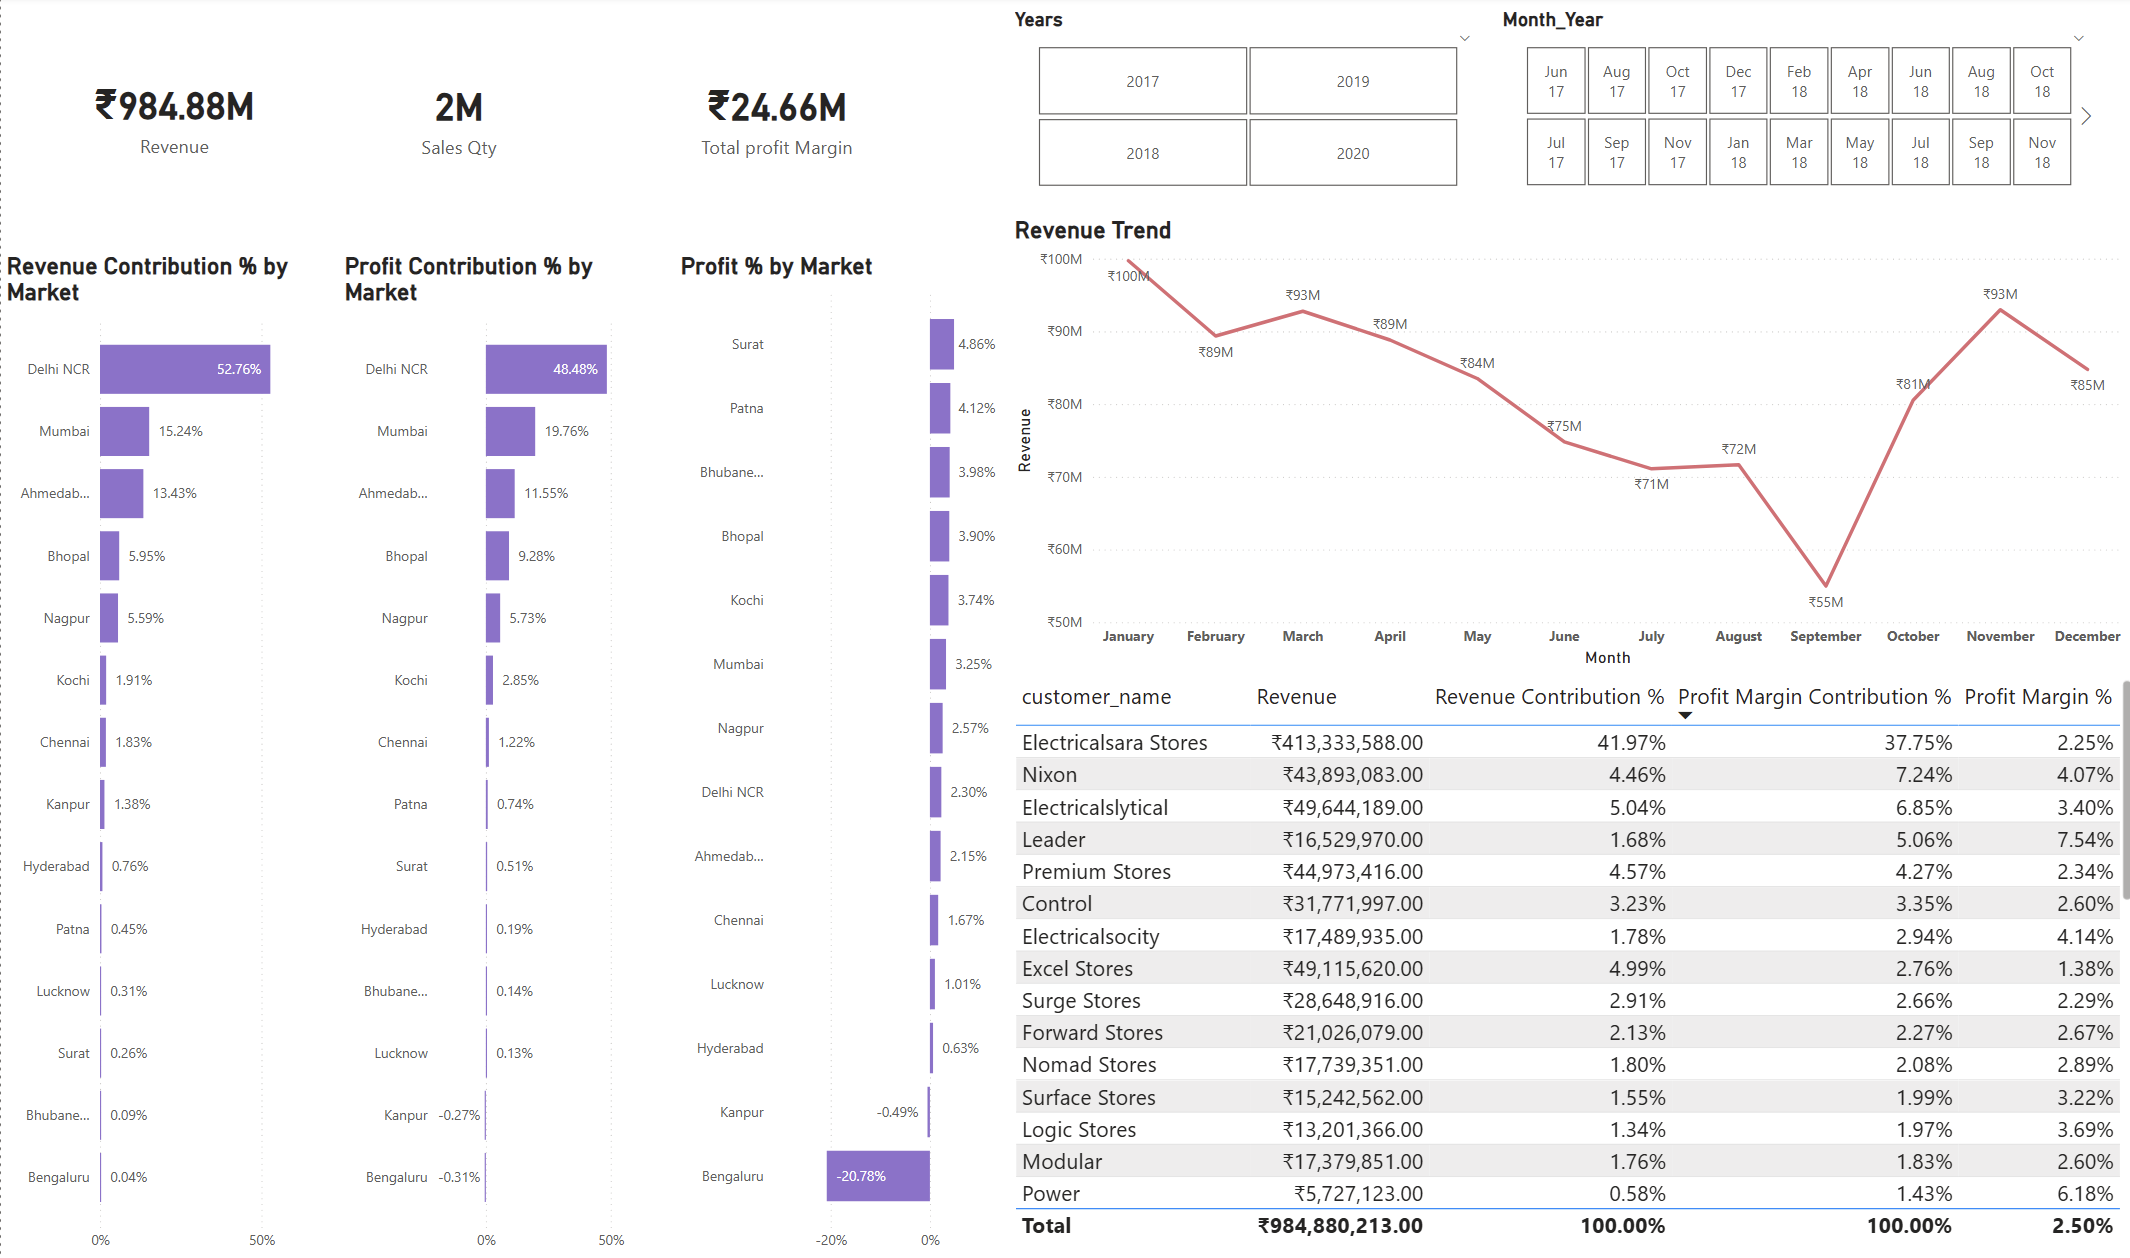

This screenshot's page, from the dashboard's own definition file:
{"tool":"powerbi","page":{"name":"Profit Analysis","canvas":[1850,1100],"ordinal":1},"visuals":[{"type":"card","fields":{"Values":["BaseMeasures.Revenue"]},"box":[27.7,0,246,211.3],"z":0},{"type":"card","fields":{"Values":["BaseMeasures.Sales Qty"]},"box":[274.6,0,246.8,212],"z":1000},{"type":"barChart","title":"Revenue Contribution % by Market","fields":{"Y":["BaseMeasures.Revenue Contribution %"],"Category":["sales markets.markets_name"]},"box":[0,223.3,292.2,876.6],"z":2000},{"type":"slicer","title":"Years","fields":{"Values":["sales date.year"]},"box":[875.8,12.2,413.6,161.6],"z":3000},{"type":"slicer","title":"Month_Year","fields":{"Values":["sales date.cy_date"]},"box":[1299.2,12.1,523.1,161.1],"z":4000},{"type":"tableEx","title":"Top 5 Customers ","fields":{"Values":["sales customers.custmer_name","BaseMeasures.Revenue","BaseMeasures.Revenue Contribution %","BaseMeasures.Profit Margin Contribution %","BaseMeasures.Profit Margin %"]},"box":[876.6,590,980.8,496.9],"z":5000},{"type":"lineChart","title":"Revenue Trend","fields":{"Y":["BaseMeasures.Revenue"],"Category":["sales date.cy_date.Variation.Date Hierarchy.Year","sales date.cy_date.Variation.Date Hierarchy.Quarter","sales date.cy_date.Variation.Date Hierarchy.Month","sales date.cy_date.Variation.Date Hierarchy.Day"]},"box":[876.6,193.6,973.4,396.4],"z":6000},{"type":"card","fields":{"Values":["BaseMeasures.Total profit Margin"]},"box":[552.6,0,243.3,212],"z":7000},{"type":"barChart","title":"Profit Contribution % by Market","fields":{"Y":["BaseMeasures.Profit Margin Contribution %"],"Category":["sales markets.markets_name"]},"box":[294.1,223.3,292.2,876.6],"z":8000},{"type":"barChart","title":"Profit % by Market","fields":{"Y":["BaseMeasures.Profit Margin percentage"],"Category":["sales markets.markets_name"]},"box":[586.3,223.3,292.2,876.6],"z":9000}]}

Visuals, with their boxes in screenshot pixels (x1, y1, x2, y2), scaled from the page's 1850x1100 canvas onto the 2130x1258 screenshot:
card - BaseMeasures.Revenue: {"x1": 32, "y1": 0, "x2": 315, "y2": 242}
card - BaseMeasures.Sales Qty: {"x1": 316, "y1": 0, "x2": 600, "y2": 242}
"Revenue Contribution % by Market" barChart: {"x1": 0, "y1": 255, "x2": 336, "y2": 1257}
"Years" slicer: {"x1": 1008, "y1": 14, "x2": 1485, "y2": 199}
"Month_Year" slicer: {"x1": 1496, "y1": 14, "x2": 2098, "y2": 198}
"Top 5 Customers " tableEx: {"x1": 1009, "y1": 675, "x2": 2129, "y2": 1243}
"Revenue Trend" lineChart: {"x1": 1009, "y1": 221, "x2": 2129, "y2": 675}
card - BaseMeasures.Total profit Margin: {"x1": 636, "y1": 0, "x2": 916, "y2": 242}
"Profit Contribution % by Market" barChart: {"x1": 339, "y1": 255, "x2": 675, "y2": 1257}
"Profit % by Market" barChart: {"x1": 675, "y1": 255, "x2": 1011, "y2": 1257}
